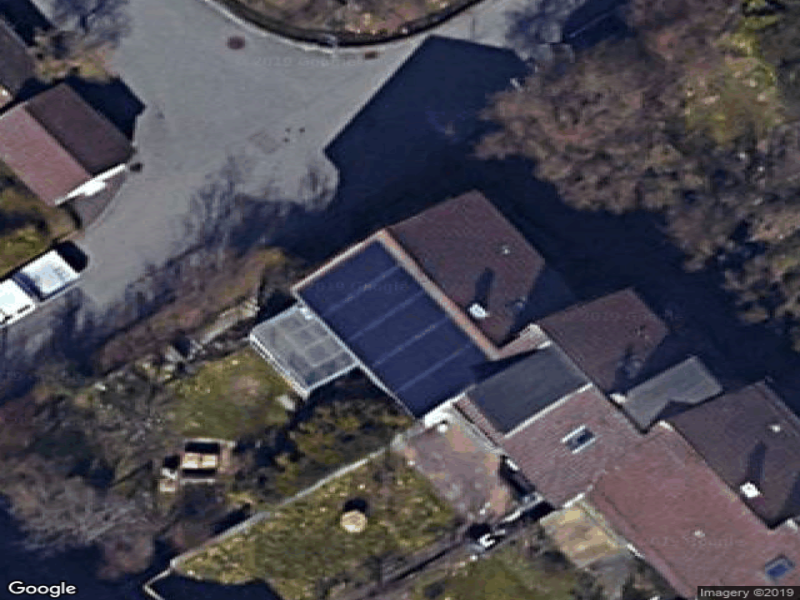pv: (299, 242, 496, 423)
